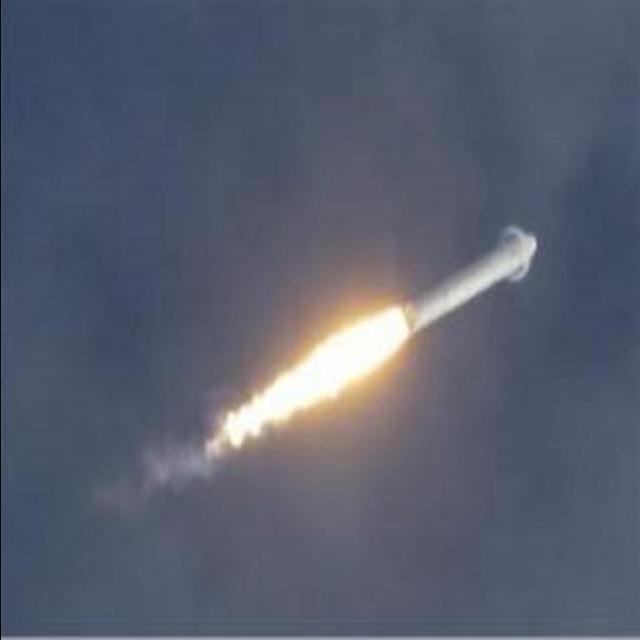missile: (405, 218, 539, 344)
